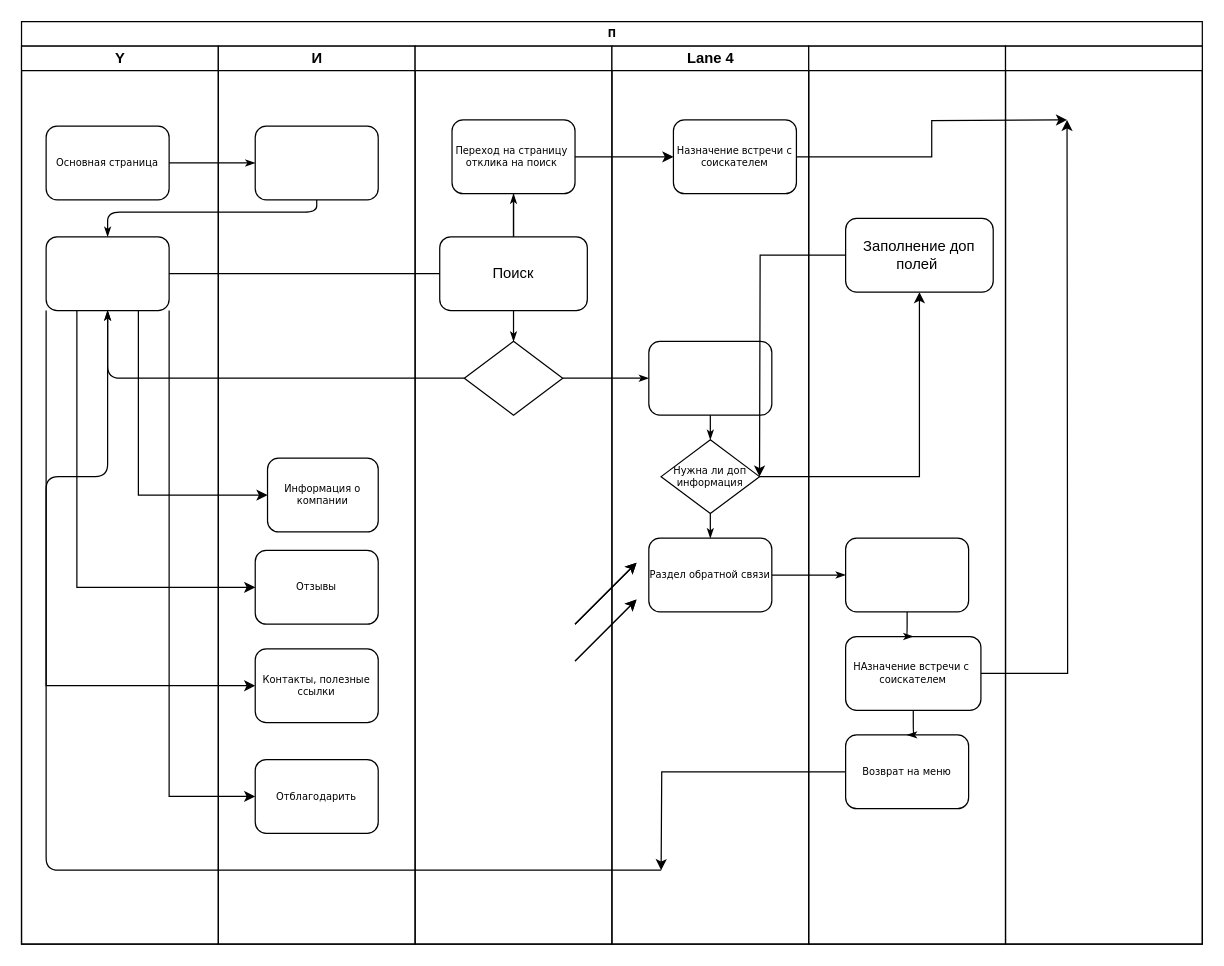
Some shapes in this 1224 by 966 pixel diagram are drawn without their labels. The shapes that lost their labels are listed below. From the top down, each one's box as (x1, y1, x2, y2) in pixels, then its label:
(254, 125, 378, 200): Регистрация
(45, 236, 169, 311): Меню
(463, 340, 563, 415): Нужно ли поиск?
(648, 340, 772, 415): Заполнение анкеты пропажи
(414, 45, 612, 944): Lane 3
(807, 45, 1006, 944): Lane 5
(1004, 45, 1202, 944): Lane 6
(844, 537, 969, 612): Выбор отклика
